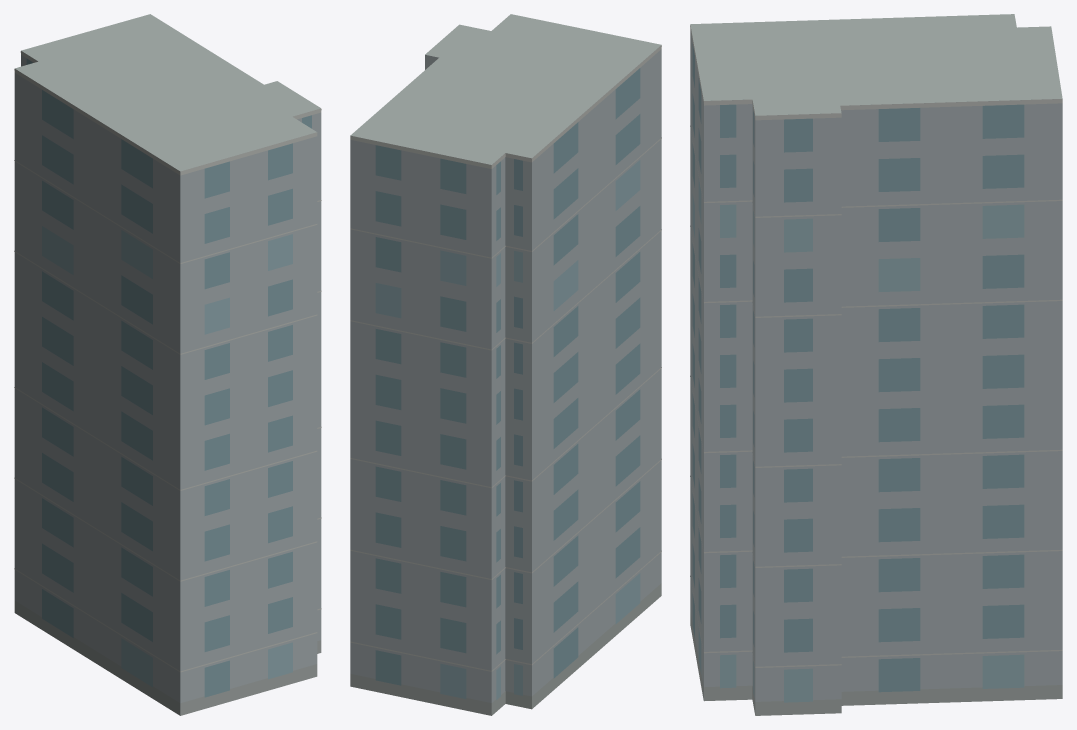
File: survey-upis-32744105.glb
The picture shows the model from 3 angles, left to right: view 1: azimuth 30°, elevation 25°; view 2: azimuth 150°, elevation 25°; view 3: azimuth 270°, elevation 25°; orthographic projection. The views are drawn at different scales.
Visible parts, largest first — view 1: survey-upis-32744105.tmp; view 2: survey-upis-32744105.tmp; view 3: survey-upis-32744105.tmp.
Part boxes in pixels (box(x1,y1,x2,y2)): survey-upis-32744105.tmp: box(14, 14, 321, 715); survey-upis-32744105.tmp: box(350, 14, 661, 715); survey-upis-32744105.tmp: box(690, 14, 1062, 715).
Size of the model in its own units: 11.81 by 32.4 by 18.25.
